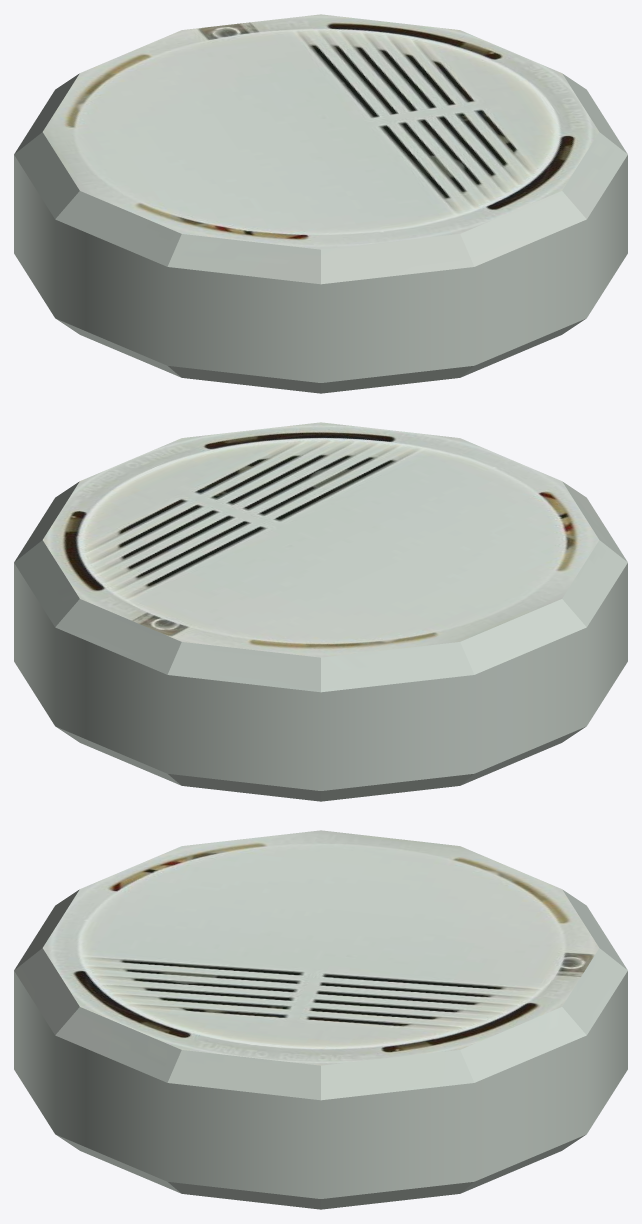
File: 感烟探测器.obj
The picture shows the model from 3 angles, top to bottom: view 1: azimuth 30°, elevation 25°; view 2: azimuth 150°, elevation 25°; view 3: azimuth 270°, elevation 25°; orthographic projection.
Parts seen in each view (by area): view 1: Cylinder003; view 2: Cylinder003; view 3: Cylinder003.
Boxes of the visible parts, box(x1,y1,x2,y2) form: Cylinder003: box(14, 14, 627, 393); Cylinder003: box(14, 422, 627, 801); Cylinder003: box(14, 830, 627, 1209).
Size of the model in its own units: 22.23 by 5.75 by 22.23.
